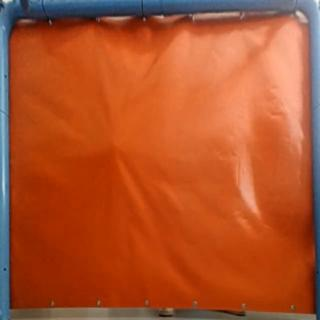Hit-hRxx: (110, 139, 124, 153)
